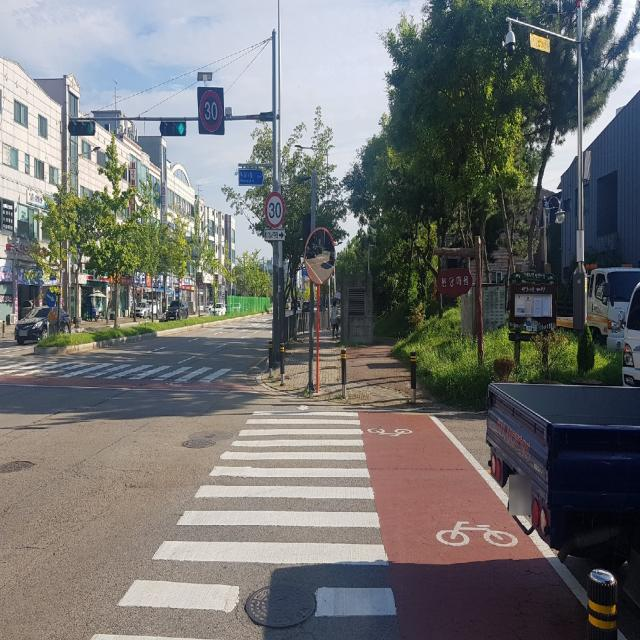횡단보도: (90, 404, 397, 640), (26, 360, 240, 385)
